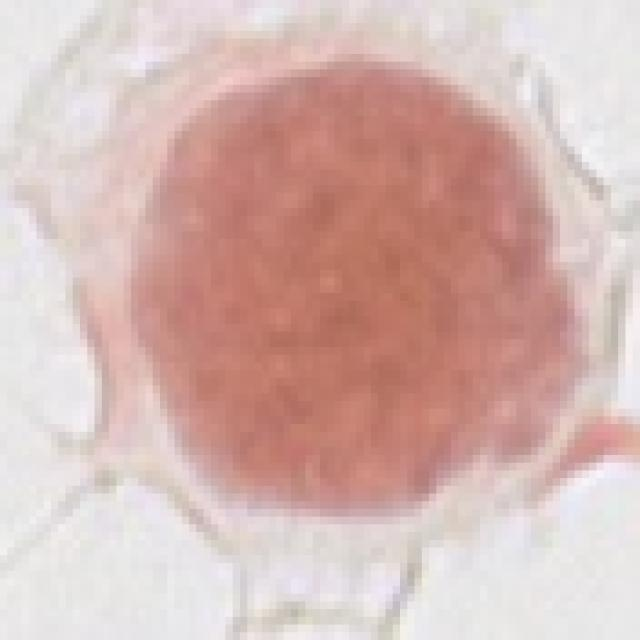nucleus: (84, 12, 637, 568)
